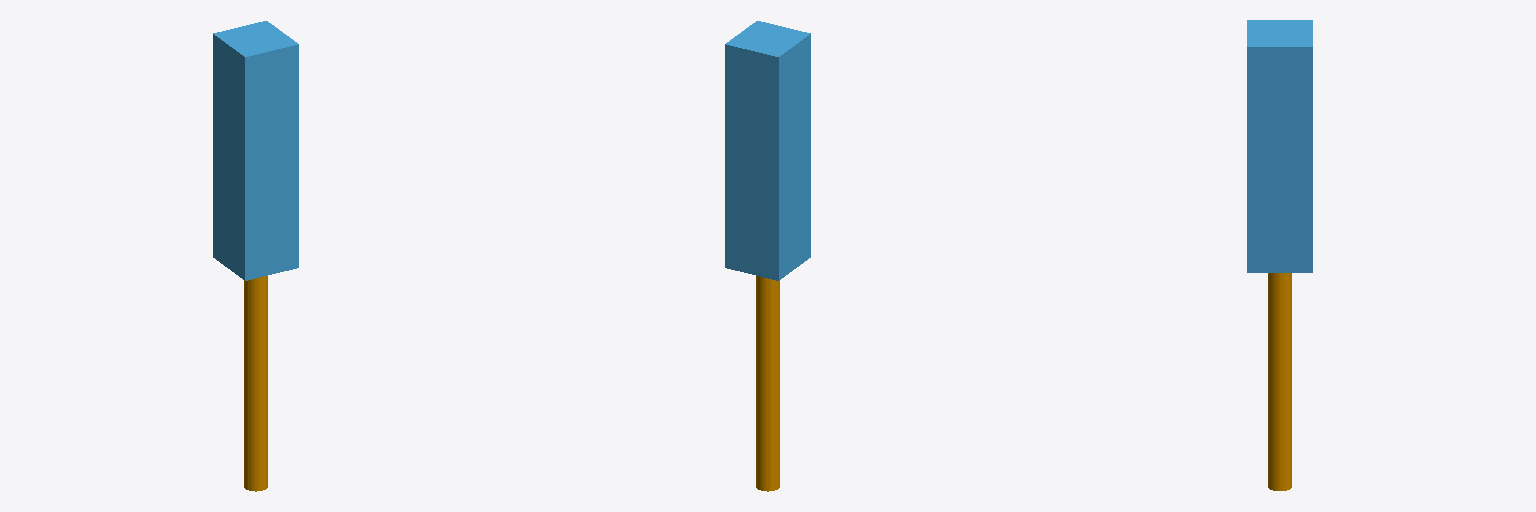
The robot description file, URDF, robot "screwdriver_on_the_table":
<?xml version="1.0" ?>
<!-- this is the one without any virtual joints and links -->
<robot name="screwdriver_on_the_table">
<link name="screwdriver_stick">
    <inertial>
      <mass value="0.05"/>
      <!-- <friction value="1.0"/> -->
      <inertia ixx="0.000041979" ixy="0.0" ixz="0.0" iyy="0.000041979" iyz="0.0" izz="0.000000625"/>
    </inertial>
    <visual>
        <origin rpy="0 0 0" xyz="0 0 0.05"/>
        <geometry>
            <cylinder radius="0.005" length="0.1"/>
        </geometry>
        <!-- <material name="White">
	 	    <color rgba="0.9 0.9 0.9 0.5"/>
        </material> -->
    </visual>
    <collision>
        <origin rpy="0 0 0" xyz="0 0 0.05"/>
        <geometry>
            <cylinder radius="0.005" length="0.1"/>
        </geometry>
    </collision>
</link>

<gazebo reference="screwdriver_body">
    <mu1>1.465294</mu1>
    <mu2>1.332936</mu2>
    <!-- Isaac Sim maps mu1/mu2 to PhysX static/dynamic friction during URDF→USD import -->
</gazebo>

<joint name="screwdriver_stick_body_joint" type="fixed">
    <parent link="screwdriver_stick"/>
    <child link="screwdriver_body"/>
    <origin rpy="0 0 0" xyz="0 0 0.1"/> 
    <axis xyz="0 0 1"/>
</joint>

<link name="screwdriver_body">
    <inertial>
      <mass value="0.129367"/>
      <inertia ixx="0.000115253" ixy="0.0" ixz="0.0" iyy="0.000114637" iyz="0.0" izz="0.000014278"/>
    </inertial>
    <visual>
        <origin rpy="0 0 0" xyz="0 0 0.05"/>
        <geometry>
            <box size="0.025172 0.026283 0.100000"/>
        </geometry>
        <!-- <material name="Red1">
	 	    <color rgba="0.9 0. 0. 0.5"/>
        </material> -->
    </visual>
    <collision>
        <origin rpy="0 0 0" xyz="0 0 0.05"/>
        <geometry>
            <box size="0.025172 0.026283 0.100000"/>
        </geometry>
    </collision>
</link>

<!-- <joint name="screwdriver_body_cap_joint" type="revolute">
    <parent link="screwdriver_body"/>
    <child link="screwdriver_cap"/>
    <origin rpy="0 0 0" xyz="0 0 0.1"/> 
    <axis xyz="0 0 1"/>
</joint>

<link name="screwdriver_cap">
    <inertial>
      <mass value="0.005"/>
      <inertia ixx="0.00001" ixy="0.0" ixz="0.0" iyy="0.000005" iyz="0.0" izz="0.000005"/>
    </inertial>
    <visual>
        <origin rpy="0 0 0" xyz="0 0 0.0006"/>
        <geometry>
            <cylinder radius="0.02" length="0.001"/>
        </geometry>
        <material name="Yellow">
	 	    <color rgba="0.9 0.9 0. 1.0"/>
        </material>
    </visual>
    <collision>
        <origin rpy="0 0 0" xyz="0 0 0.0005"/>
        <geometry>
            <cylinder radius="0.02" length="0.001"/>
        </geometry>
    </collision>
</link> -->

</robot>

--- What the picture shows (computed from the rendered views, not written in the file) ---
The picture shows the robot from 3 angles, left to right: view 1: azimuth 30°, elevation 25°; view 2: azimuth 150°, elevation 25°; view 3: azimuth 270°, elevation 25°; orthographic projection.
Robot: screwdriver_on_the_table — 2 links, 1 joints (1 fixed); root link screwdriver_stick; default pose: all joints at 0.
Visible links, largest first — view 1: screwdriver_body, screwdriver_stick; view 2: screwdriver_body, screwdriver_stick; view 3: screwdriver_body, screwdriver_stick.
Boxes of the visible links, x1,y1,x2,y2 form: screwdriver_body: (213,21,298,280); screwdriver_stick: (244,276,267,491); screwdriver_body: (725,21,810,280); screwdriver_stick: (756,276,779,491); screwdriver_body: (1247,20,1312,272); screwdriver_stick: (1268,273,1291,490).
Bounding box of the posed robot: 0.0252 × 0.0263 × 0.2 m (x, y, z).
Geometry: primitives only (box / cylinder / sphere), no mesh files.
